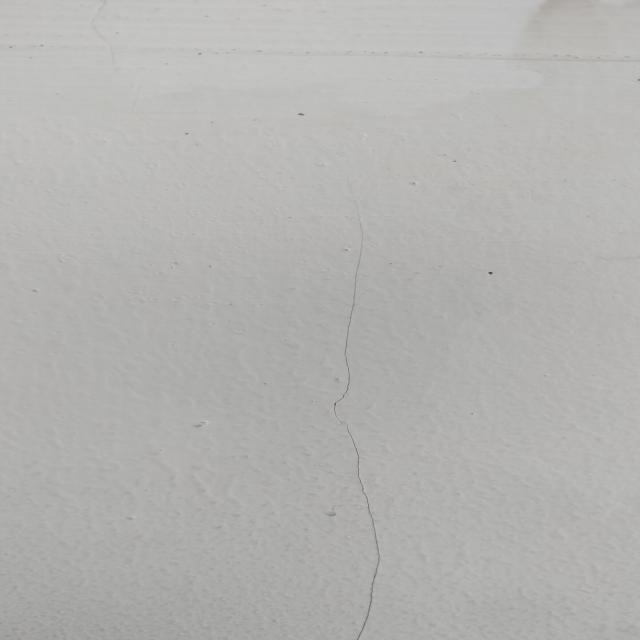Crack: (316, 220, 406, 640)
